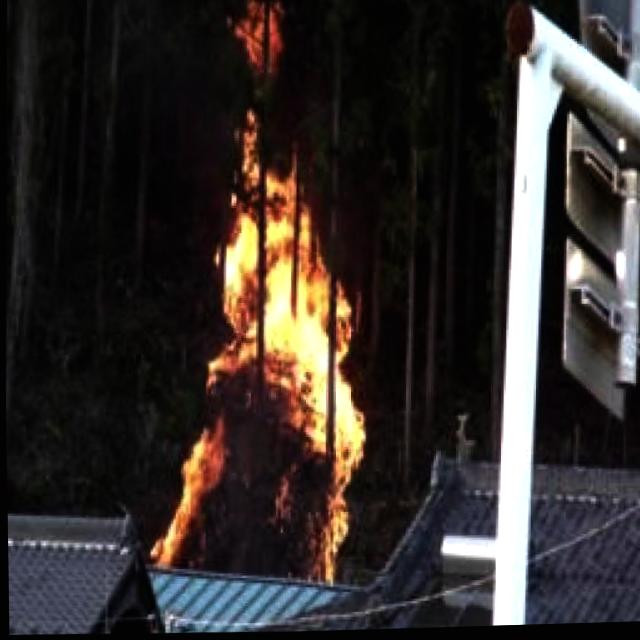helmet: (149, 123, 371, 578)
